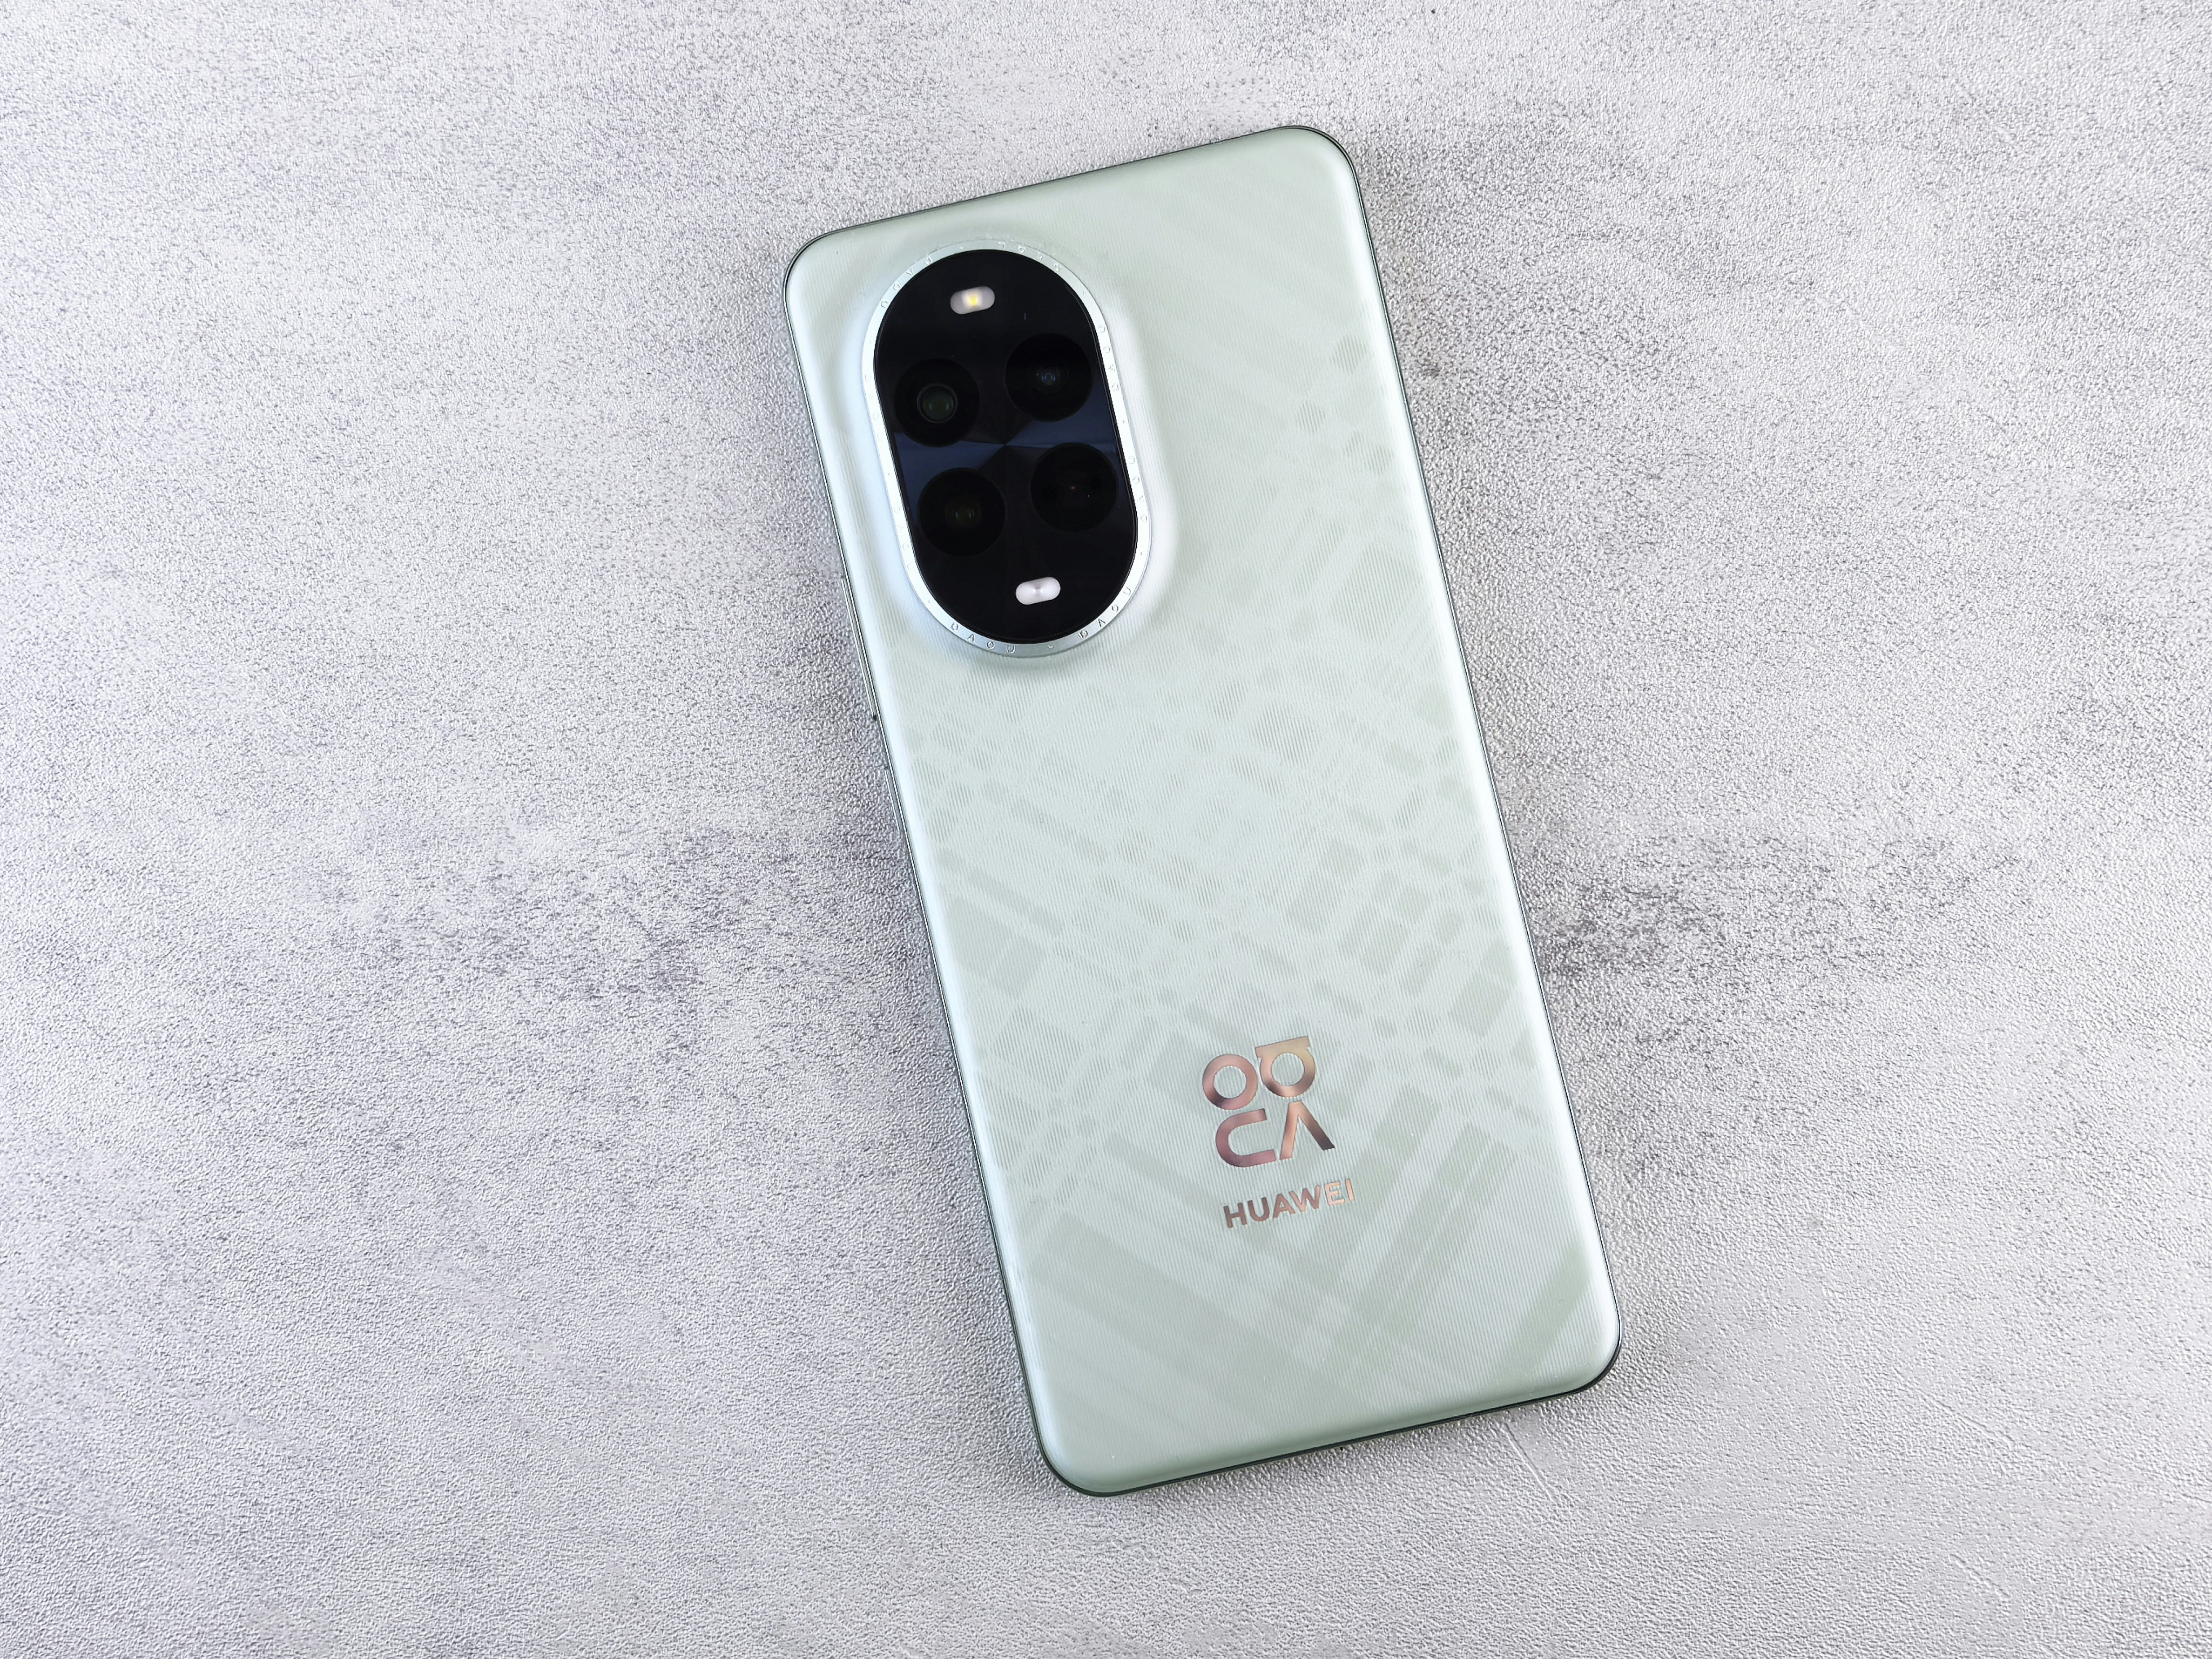p6: (761, 113, 1641, 1534)
